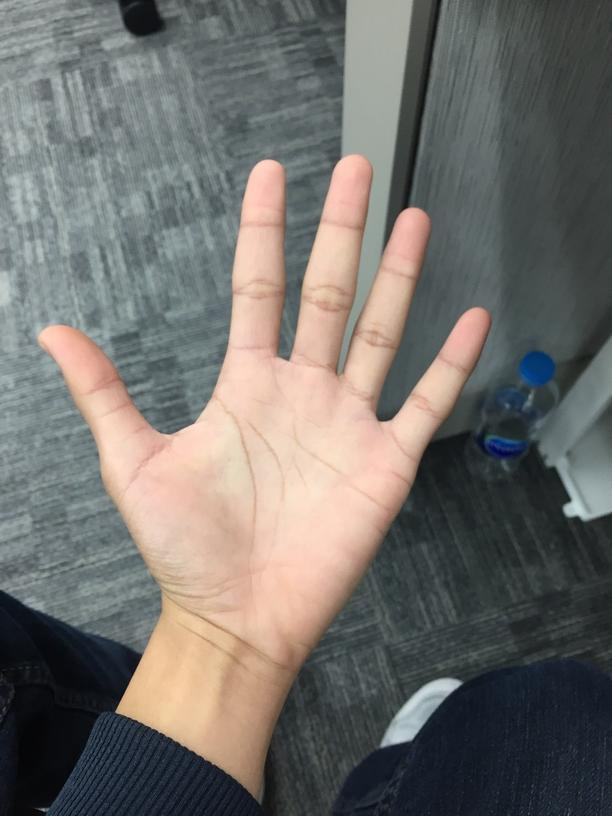hand: (37, 152, 493, 642)
